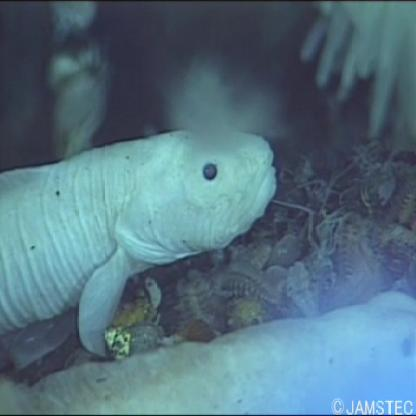Bio: (1, 118, 285, 366)
